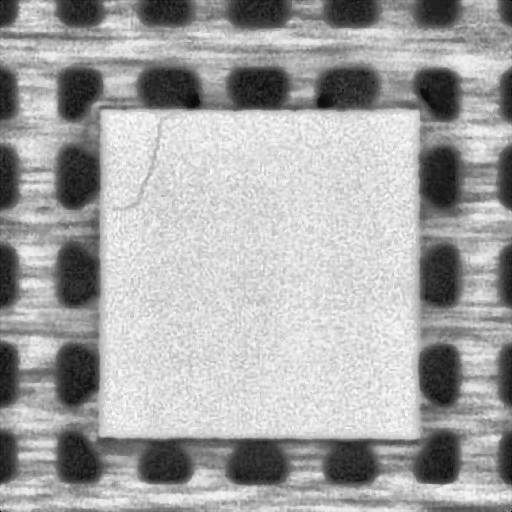DIE_CRACK: (119, 112, 172, 206)
